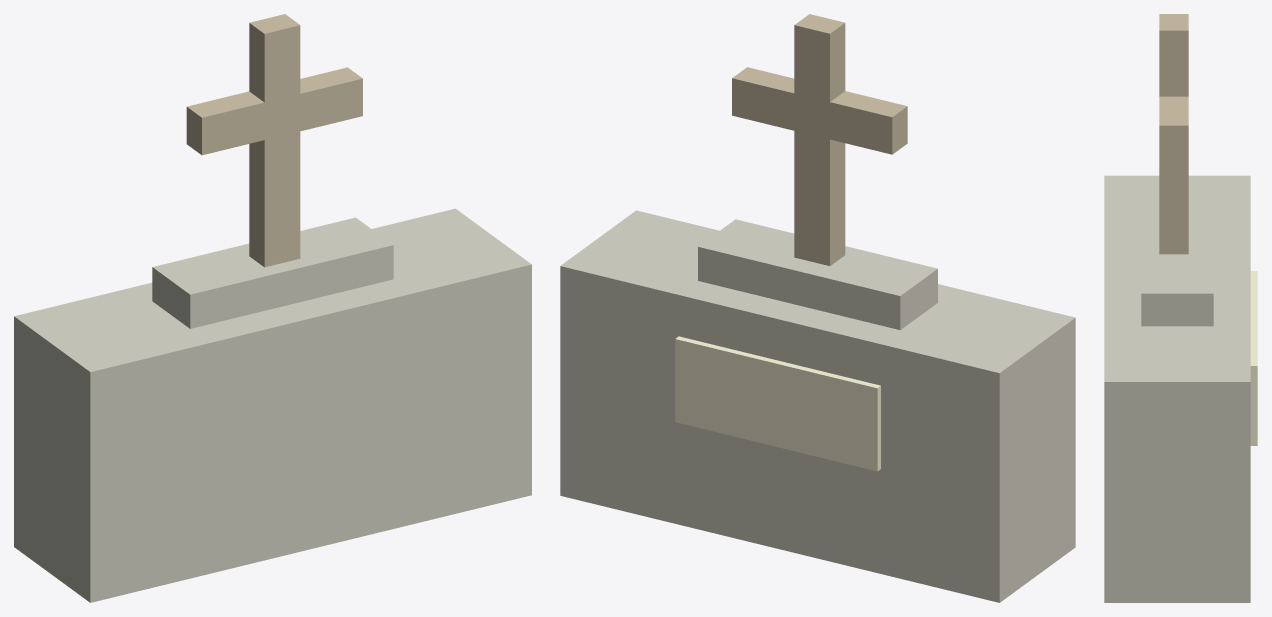
The model's file is props16.fbx.
3 renders of one model, left to right at view 1: azimuth 30°, elevation 25°; view 2: azimuth 150°, elevation 25°; view 3: azimuth 270°, elevation 25°, orthographic. The views are drawn at different scales.
Visible parts, largest first — view 1: Cube_2; view 2: Cube_2; view 3: Cube_2.
Part boxes in pixels (box(x1,y1,x2,y2)): Cube_2: box(14, 14, 531, 602); Cube_2: box(560, 14, 1075, 602); Cube_2: box(1104, 14, 1257, 602).
Size of the model in its own units: 105 by 113 by 32.85.
